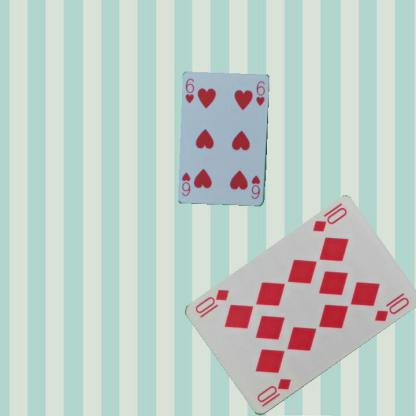10d: (254, 376, 292, 409), (310, 205, 348, 234)
6h: (183, 76, 195, 105), (249, 173, 261, 200)
